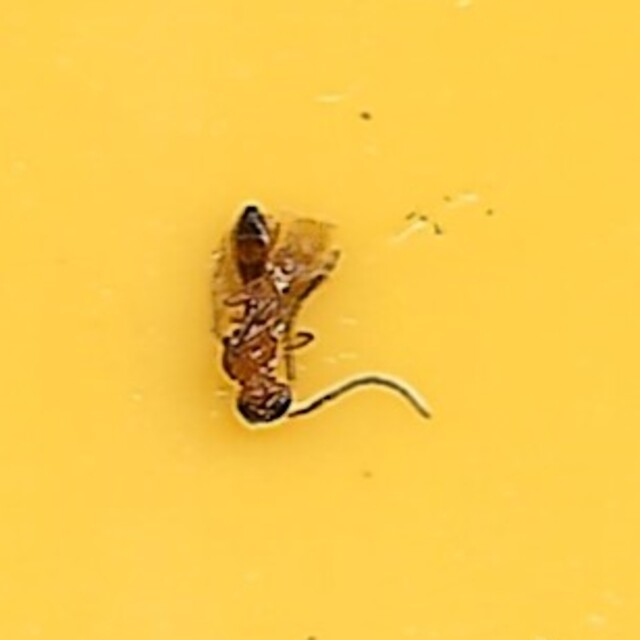Hymenoptera: (208, 201, 432, 439)
